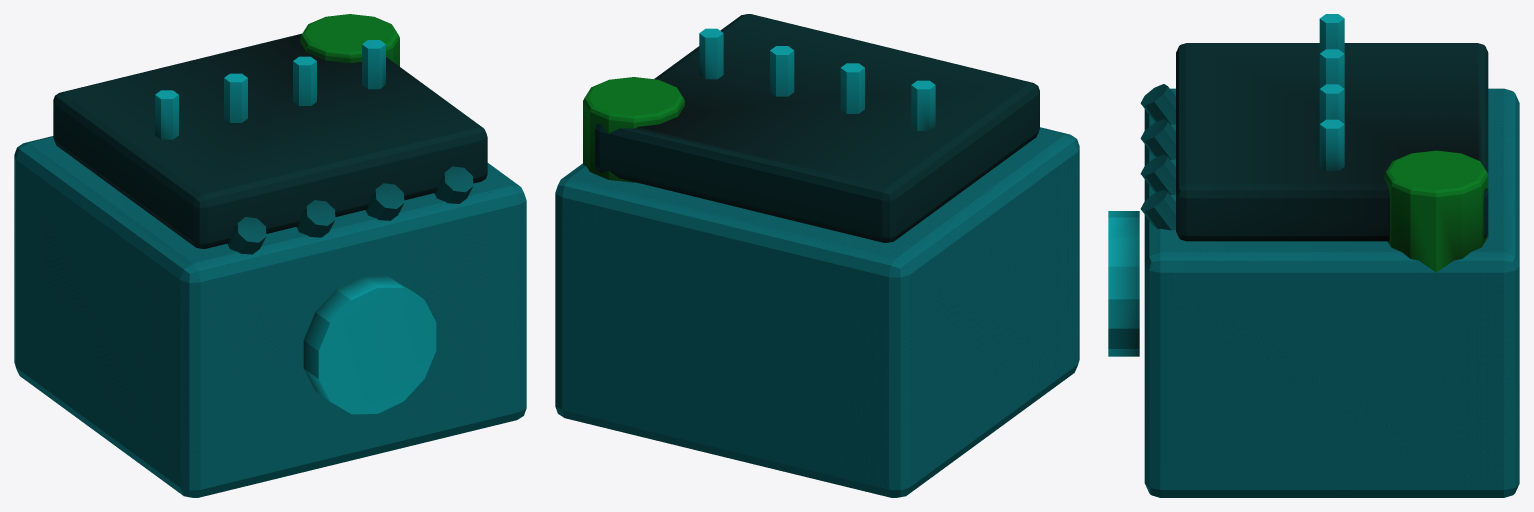
File: engine.glb
The picture shows the model from 3 angles, left to right: view 1: azimuth 30°, elevation 25°; view 2: azimuth 150°, elevation 25°; view 3: azimuth 270°, elevation 25°; orthographic projection. The views are drawn at different scales.
Parts seen in each view (by area): view 1: engine; view 2: engine; view 3: engine.
Boxes of the visible parts, x1,y1,x2,y2 form: engine: (14, 14, 526, 497); engine: (555, 14, 1079, 497); engine: (1108, 14, 1519, 497).
Bounding box in the file's own units: 0.4 × 0.365 × 0.395.
1 material, 1 textured.
